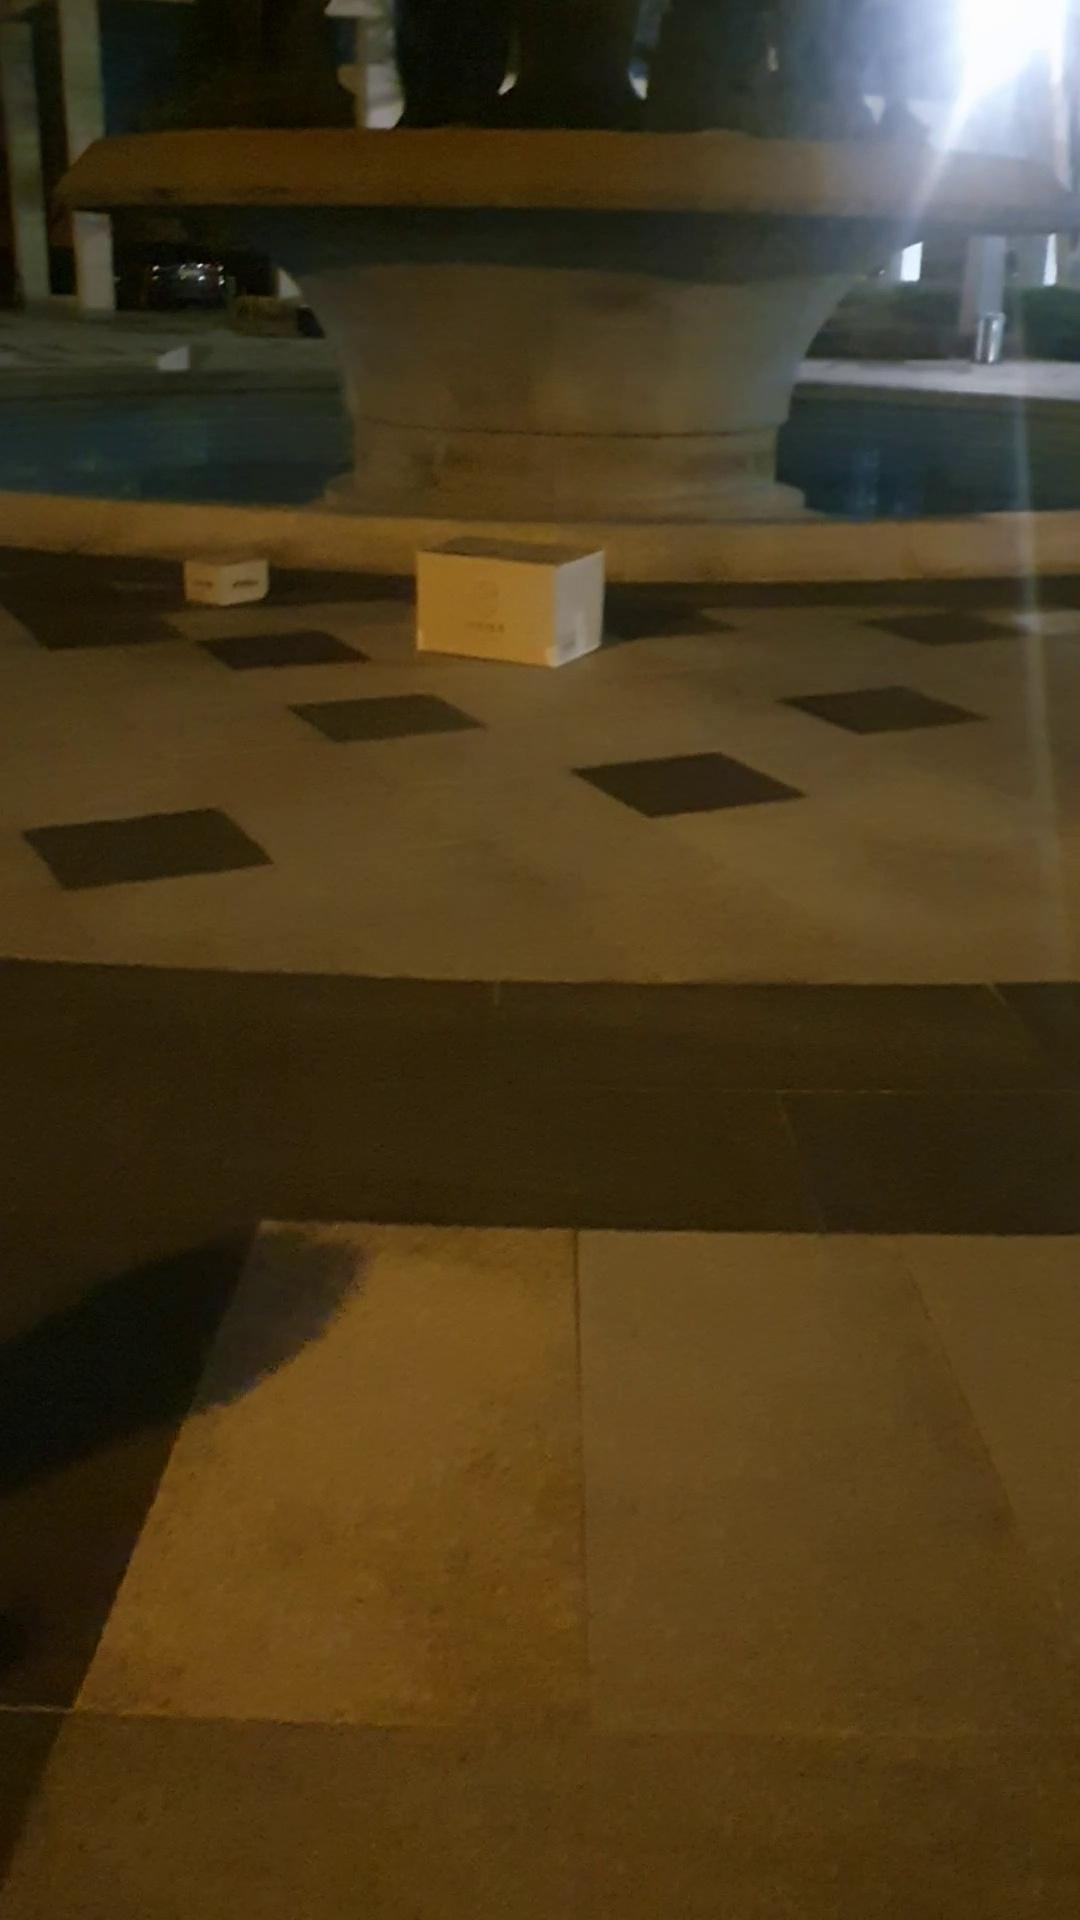Box: (401, 538, 625, 673), (167, 545, 272, 615)
